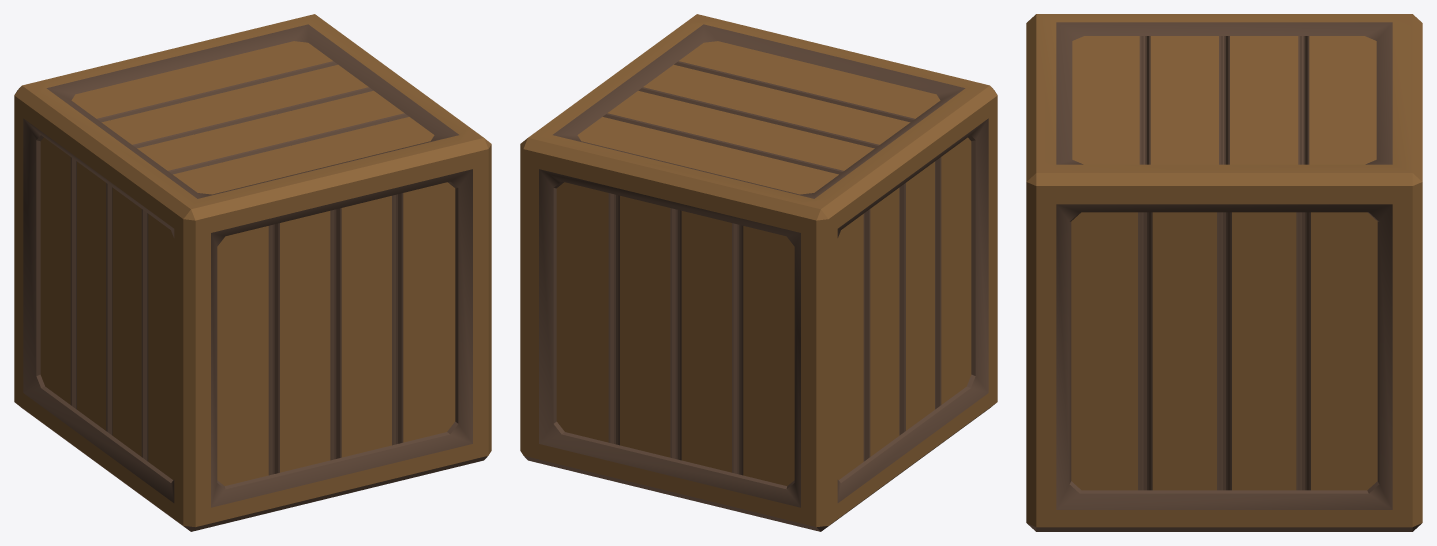
The model's file is 3D_wooden_box.fbx.
3 views of the same model, side by side, from view 1: azimuth 30°, elevation 25°; view 2: azimuth 150°, elevation 25°; view 3: azimuth 270°, elevation 25° (orthographic). The views are drawn at different scales.
Parts seen in each view (by area): view 1: 3d_WoodenBoxV2; view 2: 3d_WoodenBoxV2; view 3: 3d_WoodenBoxV2.
Part boxes in pixels (bbox=[...]): 3d_WoodenBoxV2: bbox=[14, 14, 491, 531]; 3d_WoodenBoxV2: bbox=[520, 14, 997, 531]; 3d_WoodenBoxV2: bbox=[1026, 14, 1422, 531].
Bounding box in the file's own units: 1 × 1 × 1.
